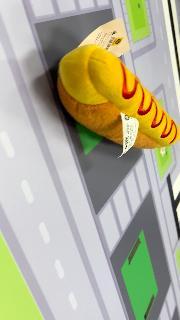hotdog: (57, 44, 179, 150)
